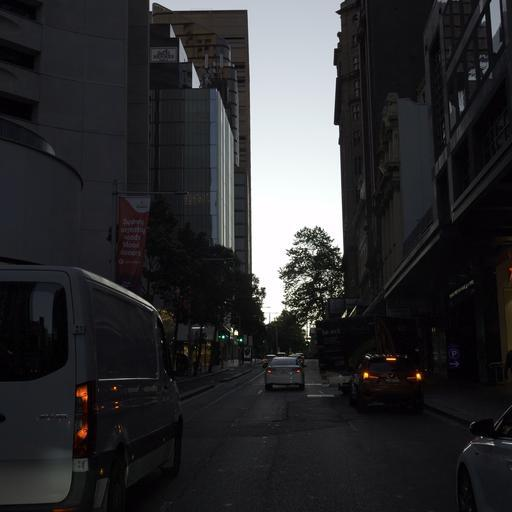Street light: (217, 331, 227, 340)
